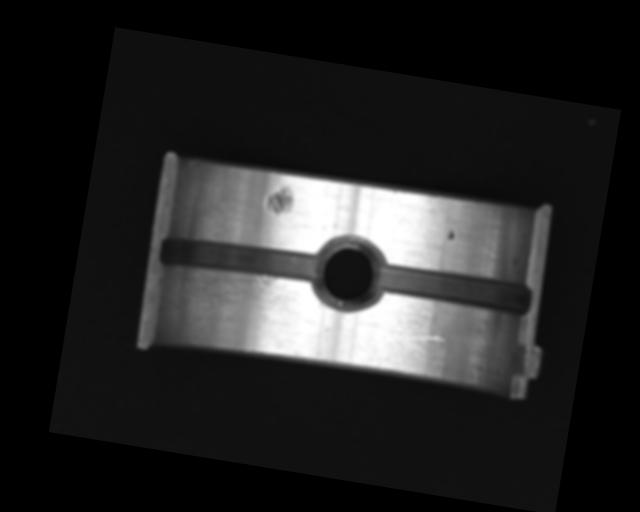bruise: (263, 182, 294, 219), (446, 226, 456, 241)
gap: (158, 229, 325, 291), (372, 260, 533, 317)
hole: (309, 230, 388, 317)
nick: (391, 328, 447, 349)
scratch: (167, 259, 319, 347)
